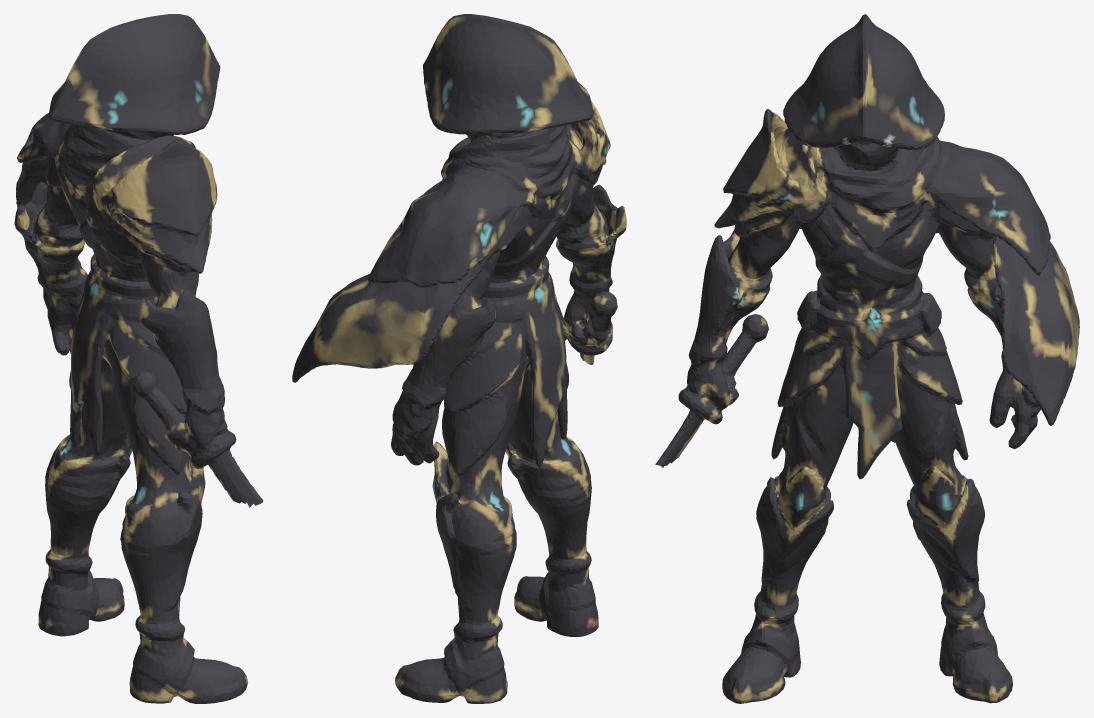
Rendered from hero.glb.
3 views of the same model, side by side, from view 1: azimuth 30°, elevation 25°; view 2: azimuth 150°, elevation 25°; view 3: azimuth 270°, elevation 25° (orthographic). The views are drawn at different scales.
Visible parts, largest first — view 1: geometry_0; view 2: geometry_0; view 3: geometry_0.
Part boxes in pixels (x1,y1,x2,y2): geometry_0: (14, 14, 263, 703); geometry_0: (292, 14, 626, 703); geometry_0: (655, 14, 1079, 703).
Bounding box in the file's own units: 0.8511 × 2.45 × 1.44.
